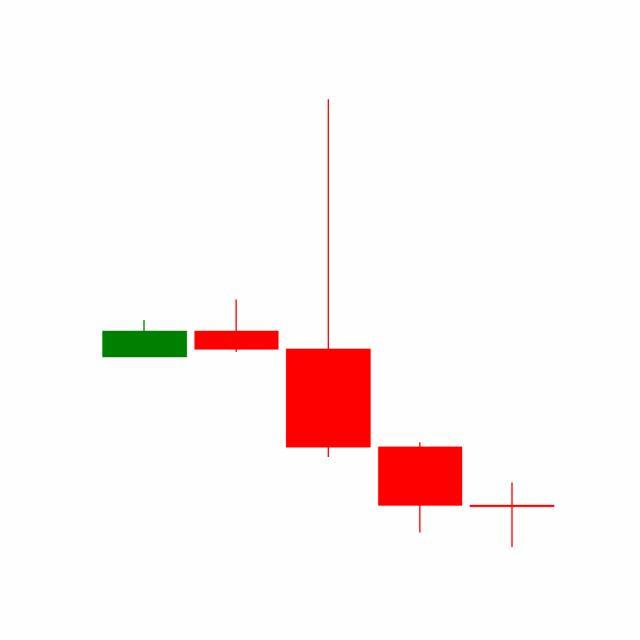Spinning Top: (466, 482, 559, 549)
